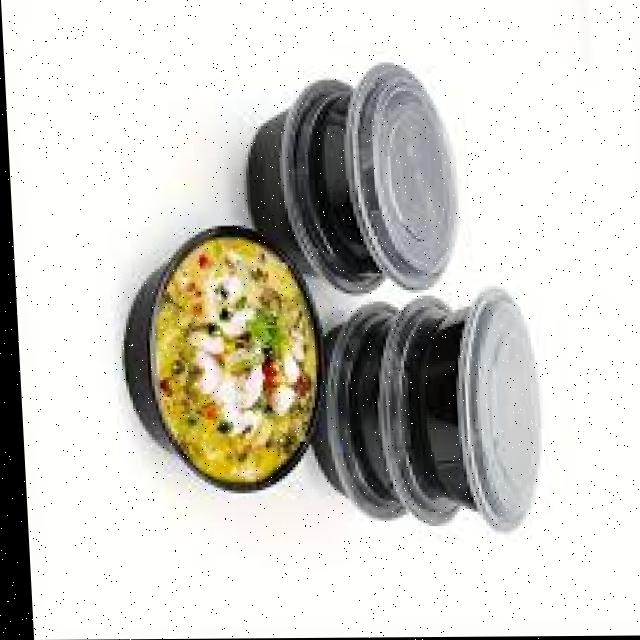disposable: (115, 235, 338, 494), (298, 52, 458, 293), (399, 294, 552, 543)
